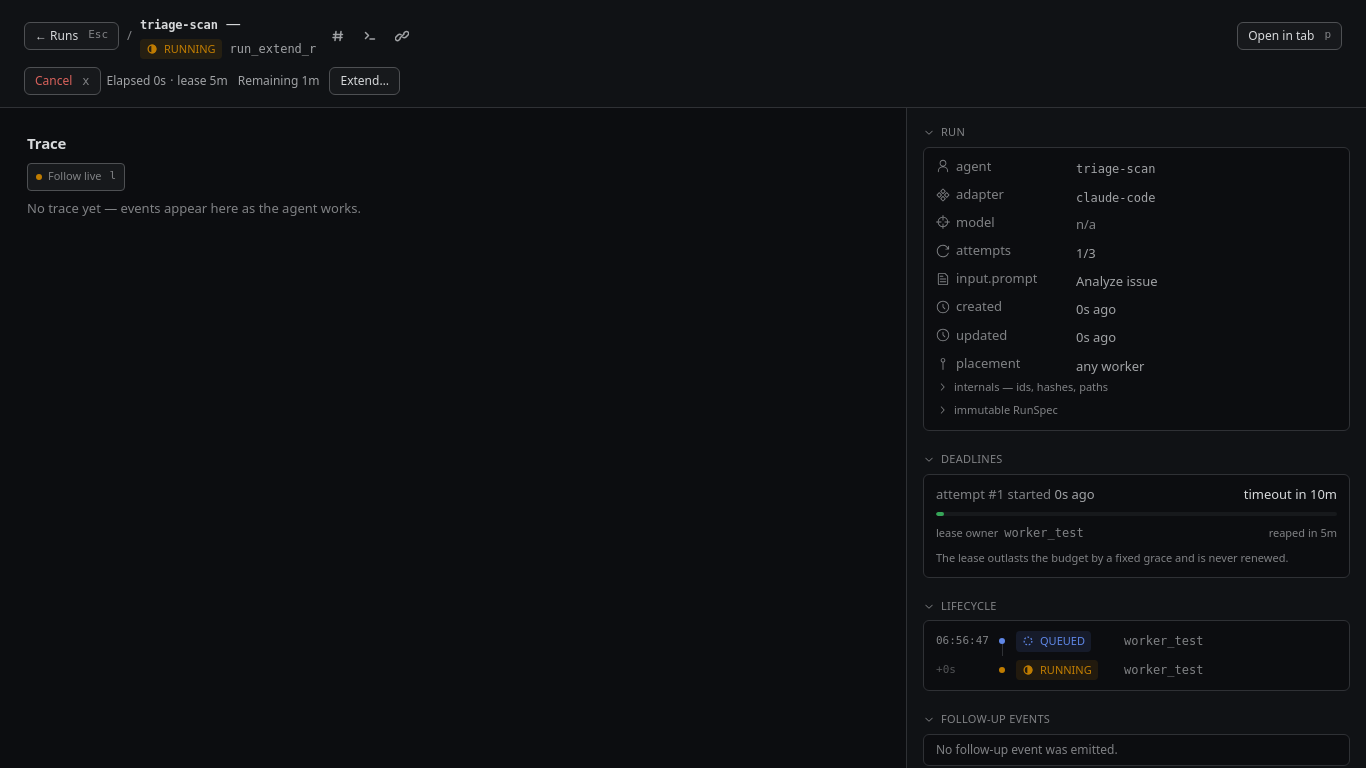
Scenario: RunFull deadline extension (WM-566) › preset refusal stays visible in the extend dialog
Click the button "Extend…".
click(365, 81)  # box [330,67,400,95]
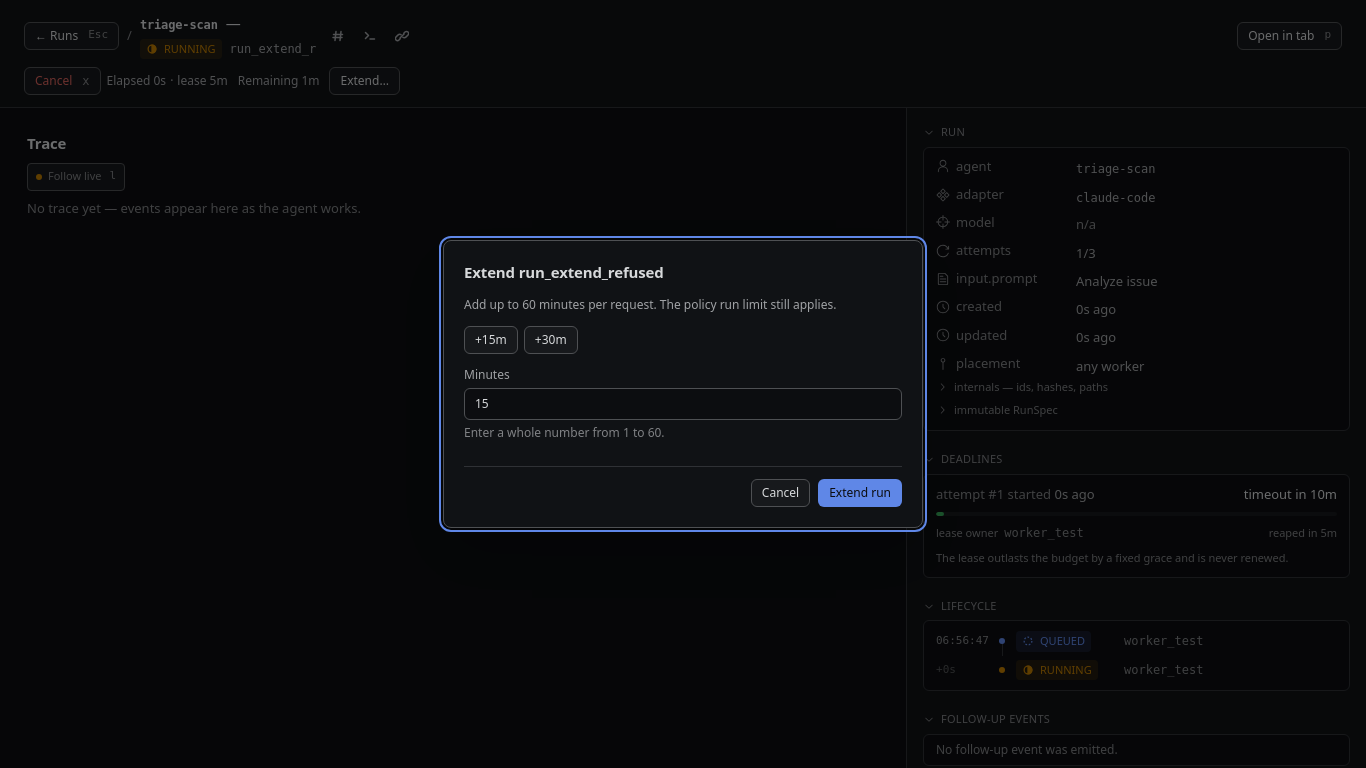
Click the button "+30m".
click(551, 340)  # box [524,326,578,354]
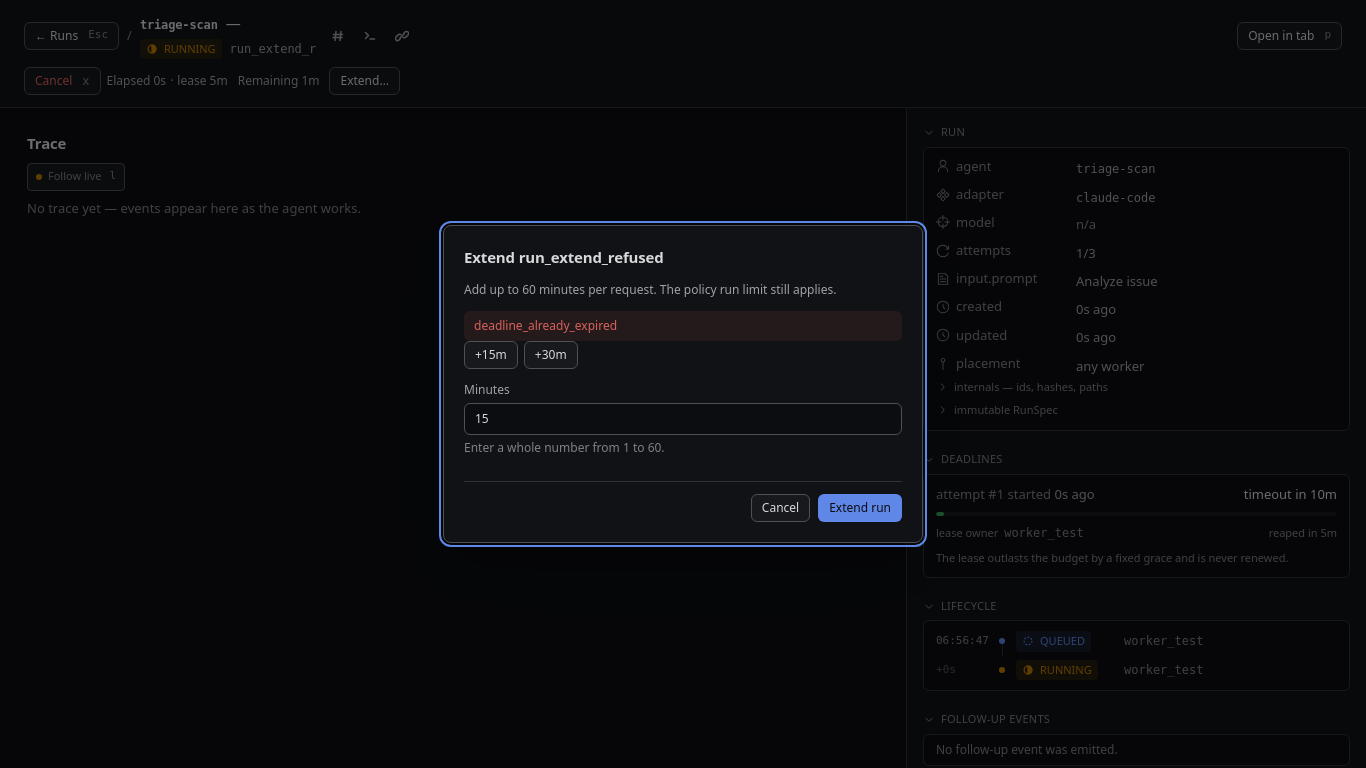
Expected: the dialog is shown, [443,225,923,543]
Expected: the text "deadline_already_expired" is shown, [464,311,902,341]
